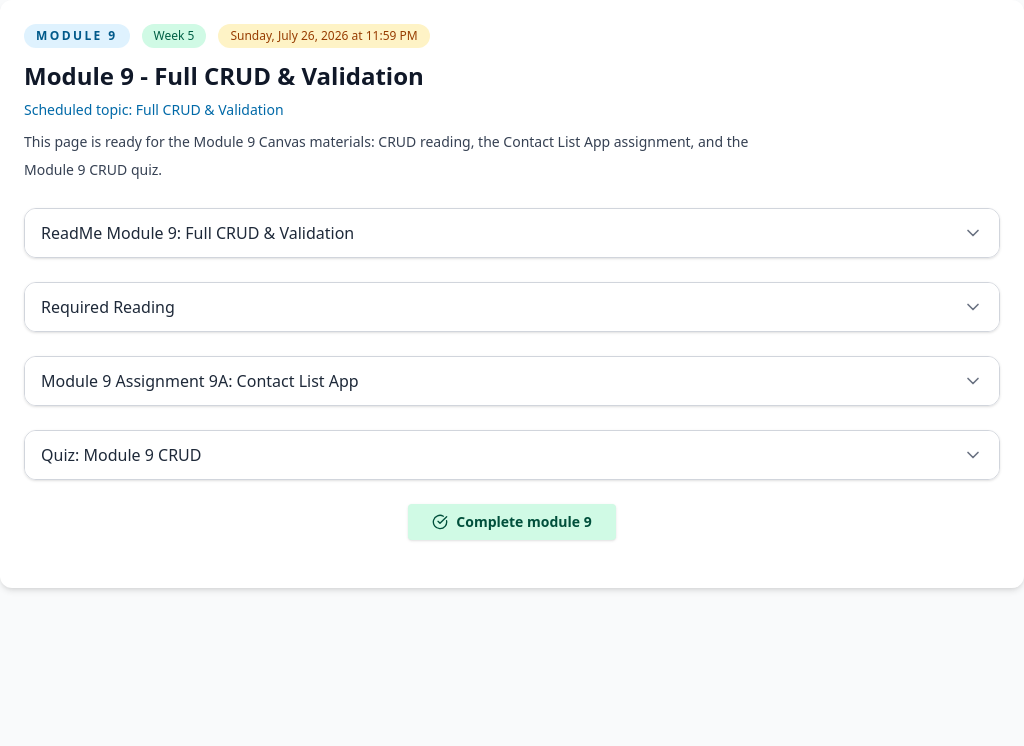
Test: <AssignmentMod9 /> › renders the Module 9 ReadMe introduction without a duplicate link
The width and height of the screenshot is (1024, 746).
Click the button "ReadMe Module 9: Full CRUD & Validation": {"x": 198, "y": 233} left=25, top=209, right=999, bottom=257
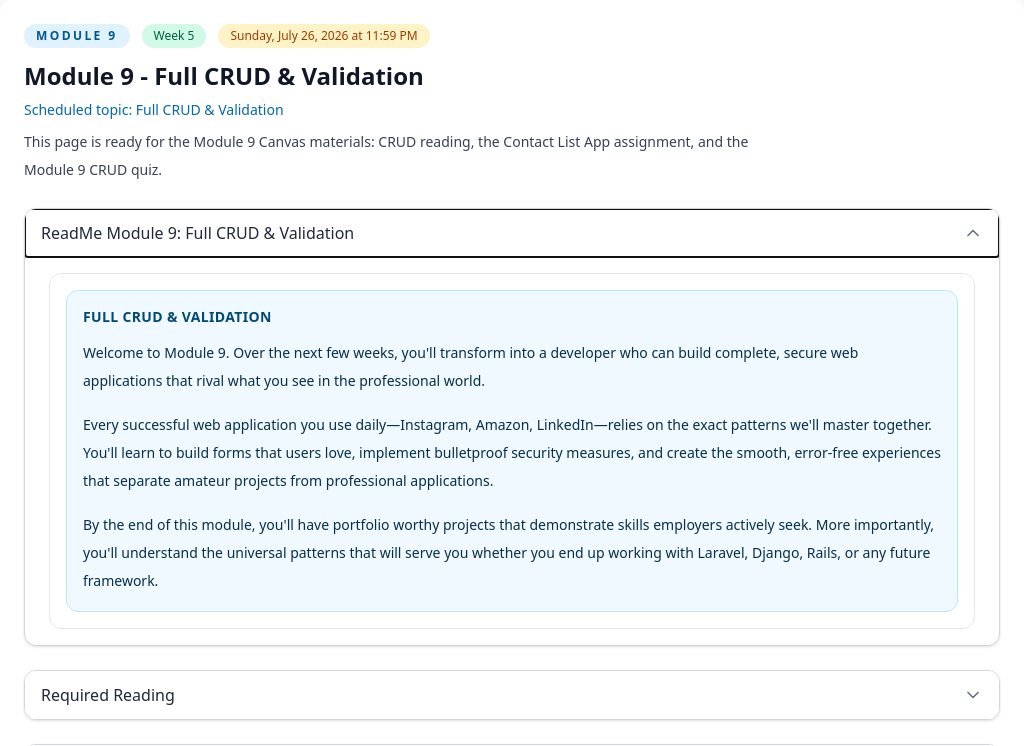
Result: the heading "Full CRUD & Validation" is shown at left=83, top=307, right=272, bottom=326
Result: the text "build complete, secure web applications" is shown at left=83, top=343, right=858, bottom=390
Result: the text "Instagram, Amazon, LinkedIn" is shown at left=83, top=415, right=941, bottom=490
